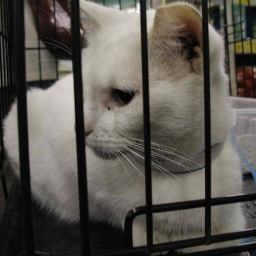cat: (5, 1, 256, 247)
